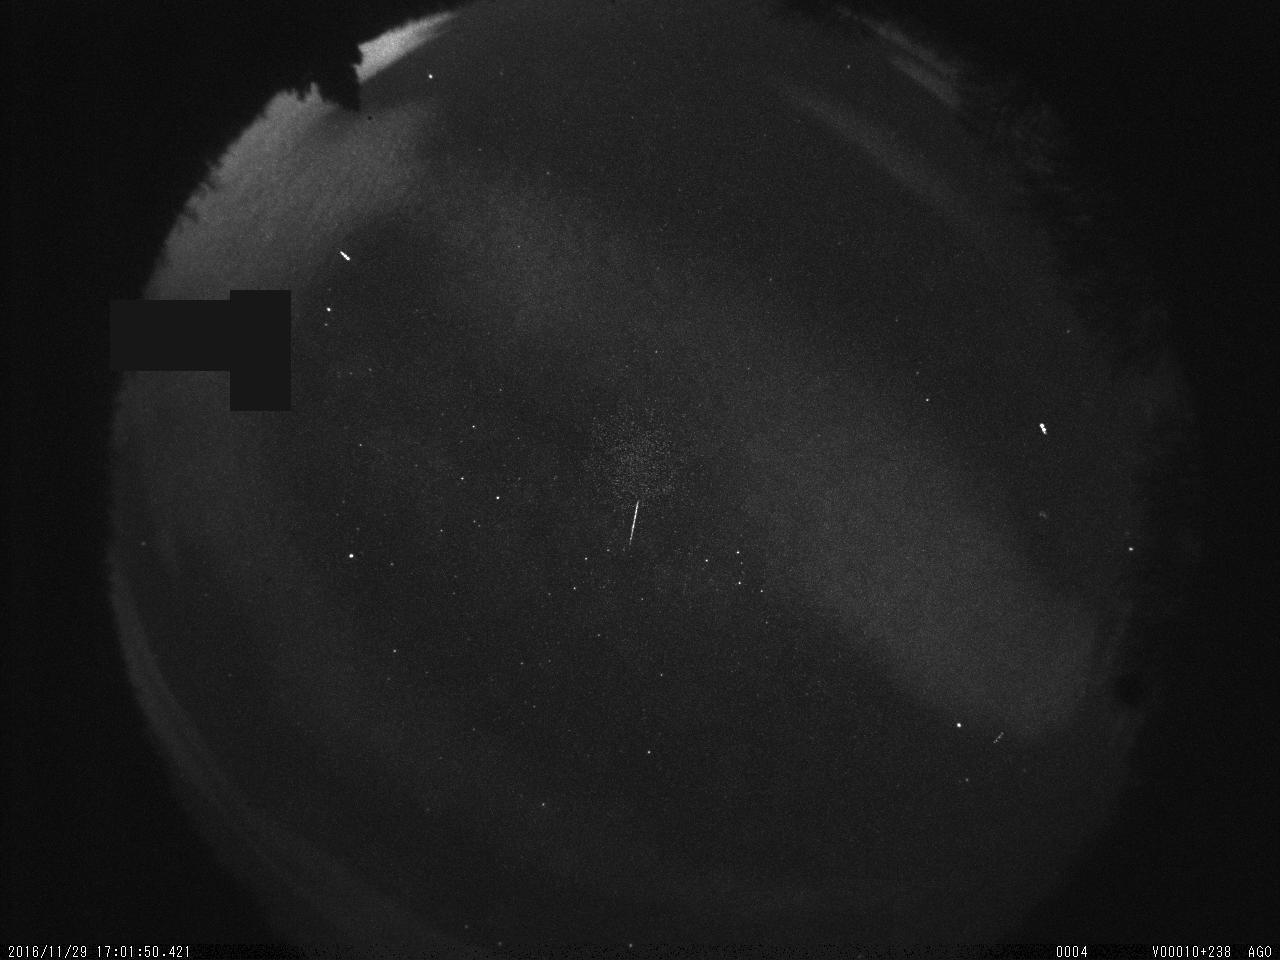meteor: (618, 487, 648, 558)
